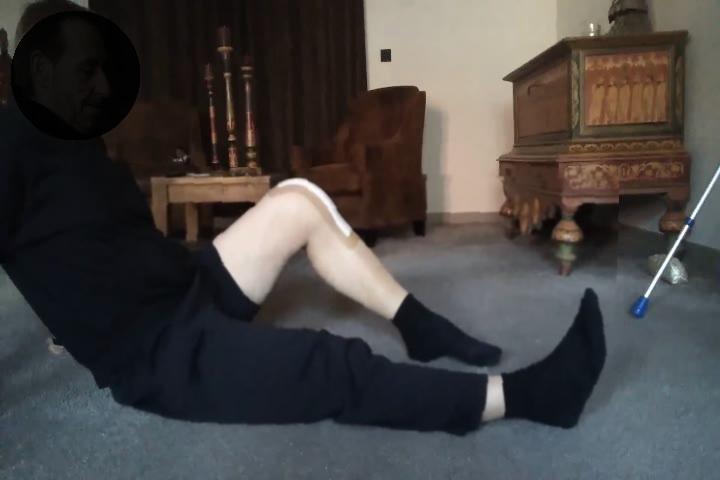lower_body: (111, 169, 618, 451)
